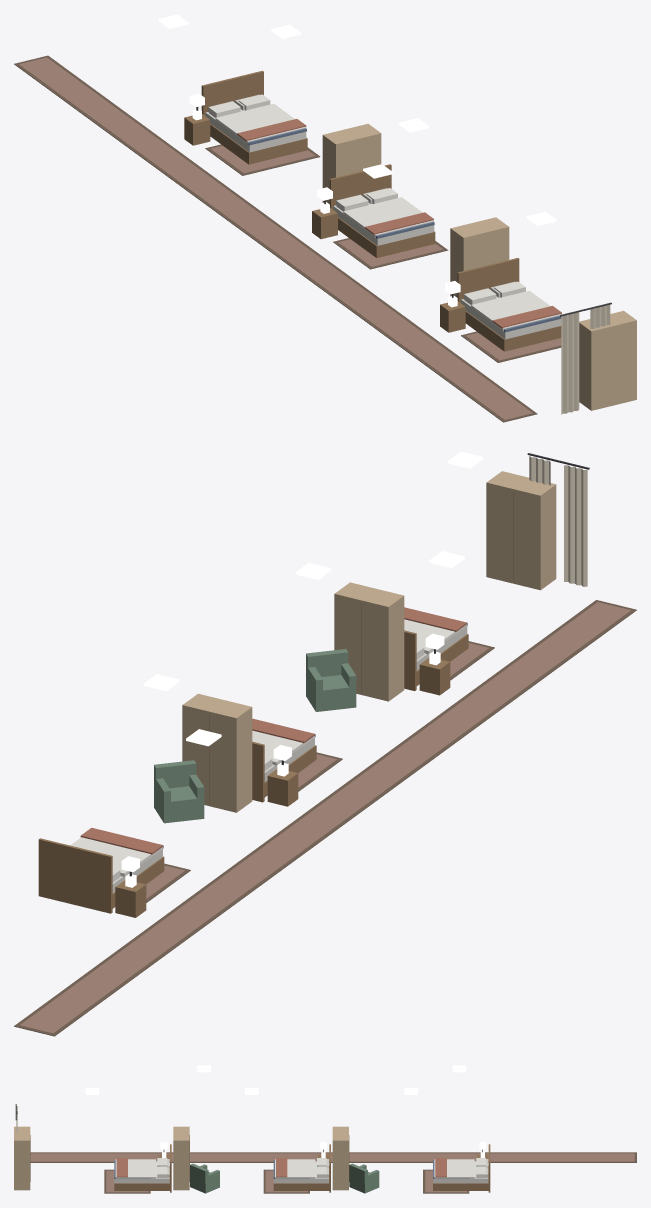
File: fine-s1.glb
3 views of the same model, one above another, from view 1: azimuth 30°, elevation 25°; view 2: azimuth 150°, elevation 25°; view 3: azimuth 270°, elevation 25° (orthographic). The views are drawn at different scales.
Visible parts, largest first — view 1: soft-s1, dresser.002, bed-frame.000, bed-frame.002, bed-frame.001, dresser.001, dresser.000, nightstand.000, nightstand.001, nightstand.002; view 2: soft-s1, dresser.002, dresser.001, dresser.000, bed-frame.000, lounge-chair.000, lounge-chair.001, bed-frame.002, bed-frame.001, nightstand.000, nightstand.002, nightstand.001; view 3: soft-s1, dresser.000, dresser.001, dresser.002, bed-frame.000, bed-frame.002, bed-frame.001, lounge-chair.000, lounge-chair.001.
Boxes of the visible parts, x1,y1,x2,y2 form: soft-s1: (14,55,611,422); dresser.002: (579,310,636,410); bed-frame.000: (201,70,307,164); bed-frame.002: (457,258,561,351); bed-frame.001: (329,164,435,257); dresser.001: (450,217,509,297); dresser.000: (322,123,381,203); nightstand.000: (184,108,210,145); nightstand.001: (312,202,337,239); nightstand.002: (440,295,465,332); soft-s1: (14,453,636,1036); dresser.002: (486,471,556,590); dresser.001: (334,582,404,701); dresser.000: (182,693,252,812); bed-frame.000: (38,838,164,913); lounge-chair.000: (154,760,204,823); lounge-chair.001: (306,649,356,711); bed-frame.002: (404,622,468,690); bed-frame.001: (252,734,316,802); nightstand.000: (115,873,146,917); nightstand.002: (419,651,450,695); nightstand.001: (267,762,298,806); soft-s1: (15,1104,636,1193); dresser.000: (332,1126,349,1190); dresser.001: (173,1126,189,1190); dresser.002: (14,1126,30,1190); bed-frame.000: (433,1144,490,1192); bed-frame.002: (114,1144,171,1192); bed-frame.001: (273,1144,330,1192); lounge-chair.000: (349,1163,379,1193); lounge-chair.001: (190,1163,219,1193).
Size of the model in its own units: 3.55 by 3.62 by 22.78.
